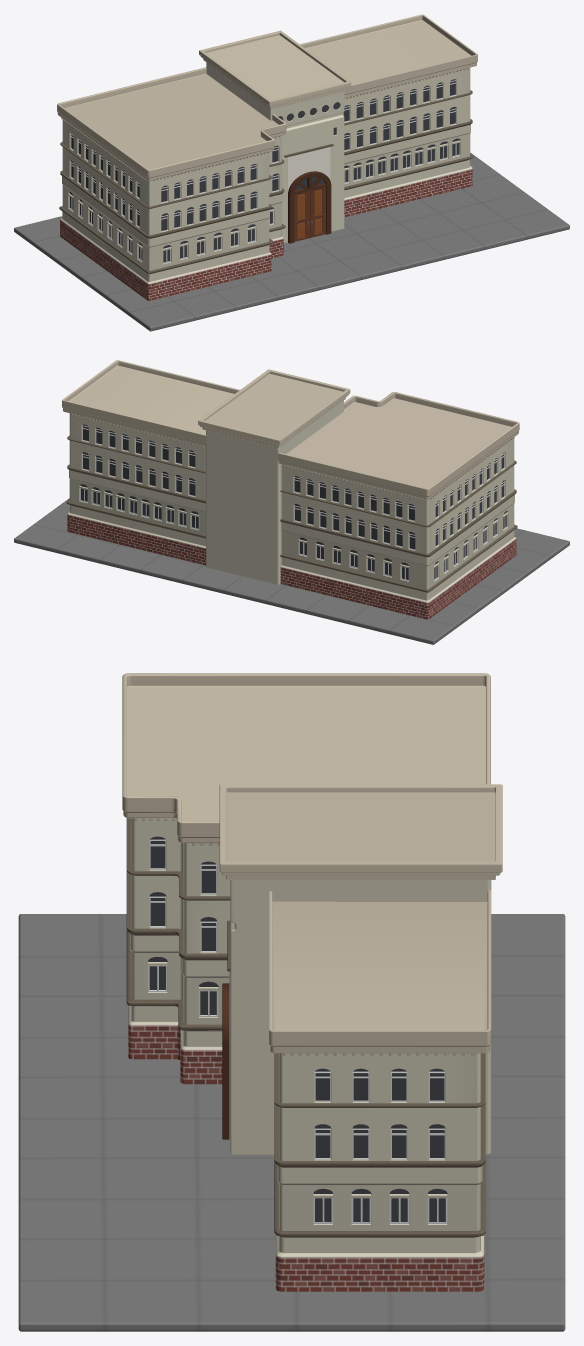
The model's file is School.fbx.
The picture shows the model from 3 angles, top to bottom: view 1: azimuth 30°, elevation 25°; view 2: azimuth 150°, elevation 25°; view 3: azimuth 270°, elevation 25°; orthographic projection. The views are drawn at different scales.
Visible parts, largest first — view 1: node_id42; view 2: node_id42; view 3: node_id42.
Boxes of the visible parts, left/top/right/bottom form: node_id42: left=14, top=14, right=569, bottom=331; node_id42: left=14, top=360, right=569, bottom=644; node_id42: left=18, top=673, right=565, bottom=1331.
Size of the model in its own units: 13669 by 4720 by 7698.
Materials: 1 (1 with a texture image).
